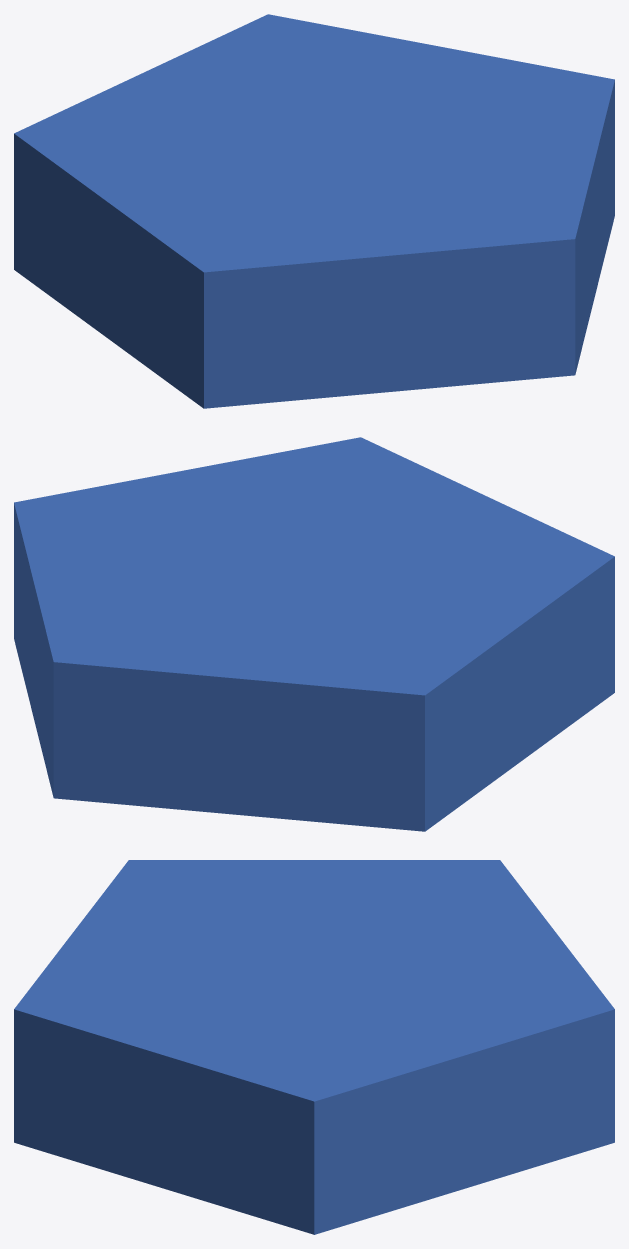
File: WaterCube.fbx
3 views of the same model, one above another, from view 1: azimuth 30°, elevation 25°; view 2: azimuth 150°, elevation 25°; view 3: azimuth 270°, elevation 25° (orthographic). The views are drawn at different scales.
Parts seen in each view (by area): view 1: ice; view 2: ice; view 3: ice.
Part boxes in pixels (box(x1,y1,x2,y2)): ice: box(14, 14, 614, 408); ice: box(14, 437, 614, 831); ice: box(14, 860, 614, 1234).
Size of the model in its own units: 90.45 by 23.28 by 95.11.
